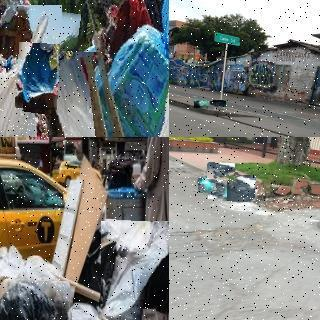Garbage: (46, 48, 169, 137), (92, 0, 169, 137), (0, 1, 71, 137), (99, 220, 169, 320), (0, 278, 72, 320), (16, 43, 60, 110), (80, 230, 114, 300), (222, 174, 256, 202), (207, 163, 236, 180), (208, 182, 227, 199), (198, 178, 216, 193), (194, 98, 213, 108), (209, 100, 226, 109)
